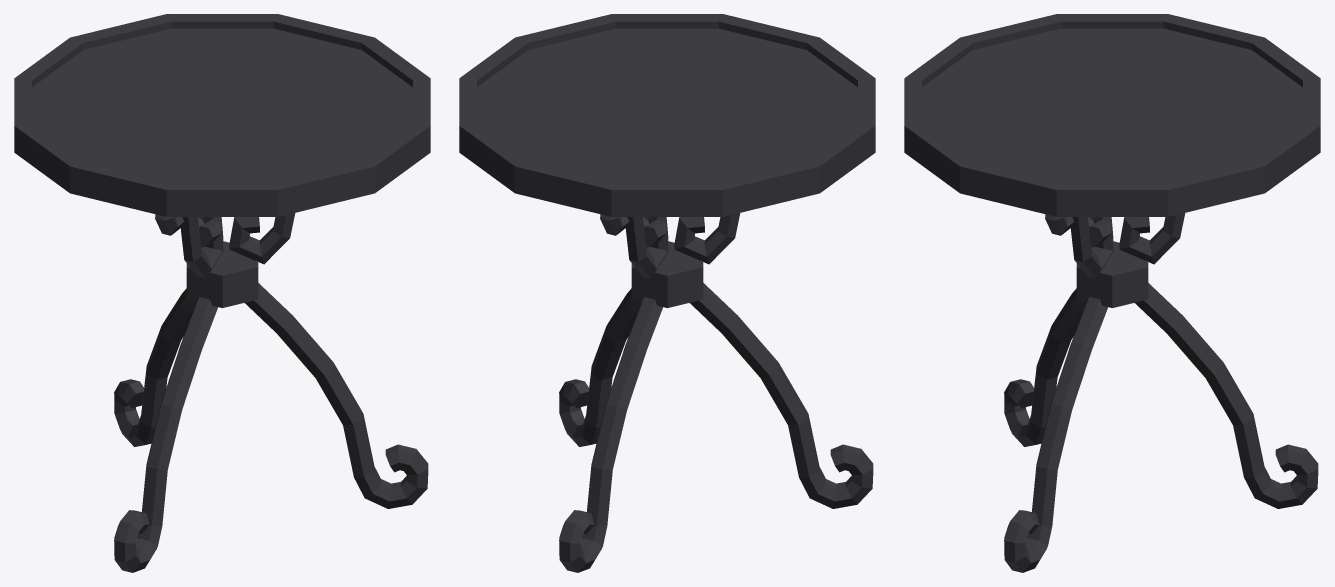
The model's file is FMS_Garden_Bistro_Table.fbx.
3 views of the same model, side by side, from view 1: azimuth 30°, elevation 25°; view 2: azimuth 150°, elevation 25°; view 3: azimuth 270°, elevation 25° (orthographic).
Parts seen in each view (by area): view 1: FMS_Garden_Bistro_Table_Body; view 2: FMS_Garden_Bistro_Table_Body; view 3: FMS_Garden_Bistro_Table_Body.
Boxes of the visible parts, bbox=[...] form: FMS_Garden_Bistro_Table_Body: bbox=[14, 14, 430, 572]; FMS_Garden_Bistro_Table_Body: bbox=[459, 14, 875, 572]; FMS_Garden_Bistro_Table_Body: bbox=[904, 14, 1320, 572].
Size of the model in its own units: 0.7 by 0.75 by 0.7.
1 material, 1 textured.
